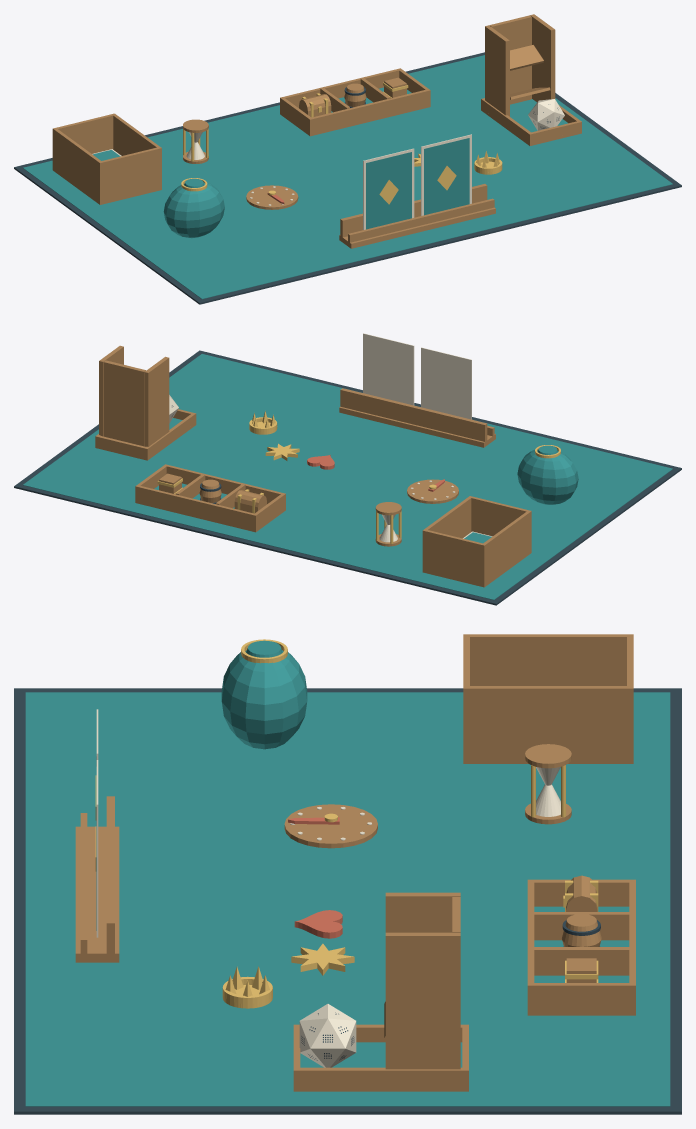
File: tabletop-game-components-card-workshop-layout-99d41615__20893.glb
The picture shows the model from 3 angles, top to bottom: view 1: azimuth 30°, elevation 25°; view 2: azimuth 150°, elevation 25°; view 3: azimuth 270°, elevation 25°; orthographic projection. The views are drawn at different scales.
Visible parts, largest first — view 1: 002-game-mat/1, 002-game-mat/0, 000-upright-card/1, 001-upright-card/1, 004-deck-box/4, 017-draw-bag/0, 006-three-compartment-tray/4, 004-deck-box/3, 007-dice-tower/6, 007-dice-tower/7, 004-deck-box/2, 007-dice-tower/8 (+14 smaller); view 2: 002-game-mat/1, 002-game-mat/0, 007-dice-tower/8, 001-upright-card/0, 000-upright-card/0, 003-card-rail/1, 004-deck-box/2, 017-draw-bag/0, 006-three-compartment-tray/2, 007-dice-tower/6, 004-deck-box/3, 004-deck-box/4 (+8 smaller); view 3: 002-game-mat/1, 002-game-mat/0, 004-deck-box/5, 007-dice-tower/7, 004-deck-box/3, 017-draw-bag/0, 003-card-rail/0, 007-dice-tower/5, 010-number-dial/0, 006-three-compartment-tray/5, 008-d20-icosahedron/0, 007-dice-tower/6 (+18 smaller).
Boxes of the visible parts, bbox=[...] form: 002-game-mat/1: bbox=[23, 55, 672, 299]; 002-game-mat/0: bbox=[14, 52, 681, 304]; 000-upright-card/1: bbox=[366, 152, 411, 229]; 001-upright-card/1: bbox=[424, 138, 469, 215]; 004-deck-box/4: bbox=[98, 147, 161, 203]; 017-draw-bag/0: bbox=[163, 182, 224, 238]; 006-three-compartment-tray/4: bbox=[308, 89, 430, 134]; 004-deck-box/3: bbox=[54, 129, 100, 201]; 007-dice-tower/6: bbox=[485, 25, 509, 116]; 007-dice-tower/7: bbox=[530, 14, 555, 102]; 004-deck-box/2: bbox=[52, 113, 115, 169]; 007-dice-tower/8: bbox=[489, 15, 531, 104]; 002-game-mat/1: bbox=[23, 354, 672, 599]; 002-game-mat/0: bbox=[14, 350, 681, 605]; 007-dice-tower/8: bbox=[103, 360, 145, 446]; 001-upright-card/0: bbox=[363, 333, 414, 405]; 000-upright-card/0: bbox=[421, 347, 471, 419]; 003-card-rail/1: bbox=[340, 388, 487, 441]; 004-deck-box/2: bbox=[422, 529, 486, 585]; 017-draw-bag/0: bbox=[517, 449, 578, 504]; 006-three-compartment-tray/2: bbox=[135, 485, 257, 530]; 007-dice-tower/6: bbox=[144, 356, 169, 446]; 004-deck-box/3: bbox=[483, 511, 529, 584]; 004-deck-box/4: bbox=[468, 496, 531, 552]; 002-game-mat/1: bbox=[25, 692, 670, 1106]; 002-game-mat/0: bbox=[14, 688, 681, 1114]; 004-deck-box/5: bbox=[470, 686, 626, 761]; 007-dice-tower/7: bbox=[385, 932, 460, 1069]; 004-deck-box/3: bbox=[470, 634, 626, 685]; 017-draw-bag/0: bbox=[221, 650, 307, 749]; 003-card-rail/0: bbox=[75, 826, 119, 962]; 007-dice-tower/5: bbox=[300, 1067, 462, 1086]; 010-number-dial/0: bbox=[284, 804, 377, 848]; 006-three-compartment-tray/5: bbox=[534, 983, 629, 1012]; 008-d20-icosahedron/0: bbox=[299, 1004, 356, 1067]; 007-dice-tower/6: bbox=[385, 892, 460, 932].
Bounding box in the file's own units: 0.6 × 0.1043 × 0.4.
